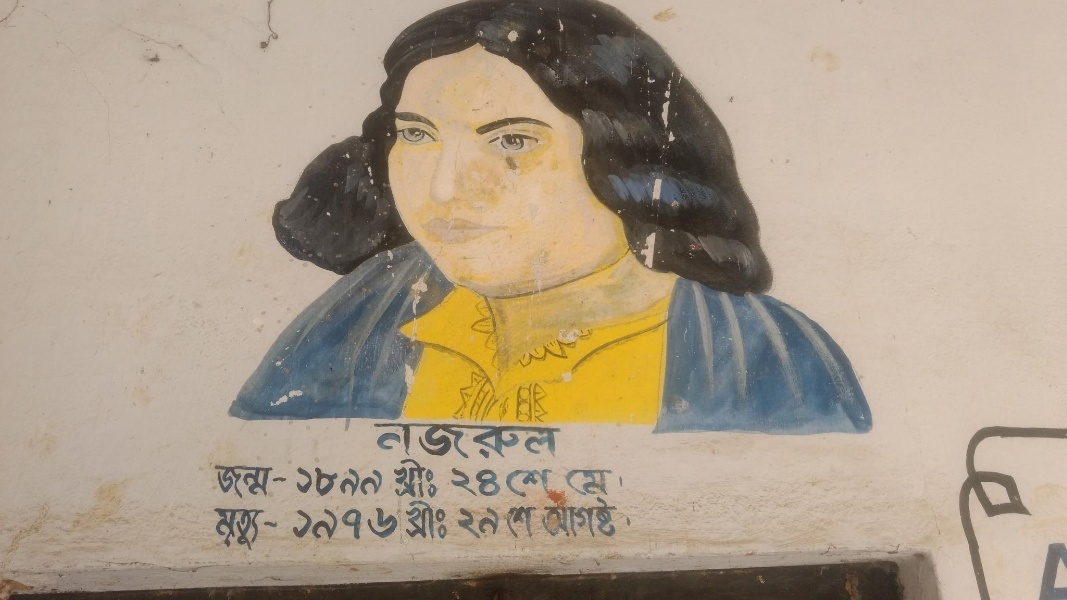text: (225, 506, 240, 553), (241, 506, 256, 553), (257, 506, 272, 553), (545, 497, 560, 541), (561, 497, 576, 541), (577, 497, 592, 541), (593, 497, 608, 541), (609, 497, 624, 541), (417, 499, 432, 542), (433, 499, 448, 542), (385, 503, 401, 543), (385, 418, 400, 460), (401, 418, 416, 460), (417, 418, 432, 460), (433, 418, 448, 460), (449, 418, 464, 460), (465, 418, 480, 460), (481, 418, 496, 460), (497, 418, 512, 460), (513, 418, 528, 460), (529, 418, 544, 460), (545, 418, 560, 460), (465, 502, 480, 543), (481, 502, 496, 543), (497, 502, 512, 543), (513, 502, 528, 543), (401, 459, 416, 499), (417, 459, 432, 499), (305, 503, 320, 543), (321, 503, 336, 543), (337, 503, 352, 543), (353, 503, 368, 543), (369, 503, 384, 543), (403, 499, 416, 542), (225, 464, 240, 501), (241, 464, 256, 501), (257, 464, 272, 501), (273, 464, 288, 501), (305, 464, 320, 501), (321, 464, 336, 501), (337, 464, 352, 501), (353, 464, 368, 501), (369, 464, 384, 501), (371, 418, 384, 460), (291, 503, 304, 543), (210, 464, 224, 501), (213, 506, 224, 553), (465, 466, 480, 499), (481, 466, 496, 499), (497, 466, 512, 499), (513, 466, 528, 499), (529, 466, 544, 499), (529, 502, 540, 543), (577, 466, 592, 496), (593, 466, 608, 496), (609, 466, 624, 496), (451, 466, 464, 499), (433, 459, 443, 499), (625, 497, 633, 541), (295, 464, 304, 501), (565, 466, 576, 496), (273, 506, 280, 553), (456, 502, 464, 543), (545, 466, 554, 499), (394, 459, 400, 499), (541, 497, 544, 541), (561, 418, 564, 460), (385, 464, 388, 501), (449, 499, 451, 542), (289, 464, 291, 501), (625, 466, 626, 496)
